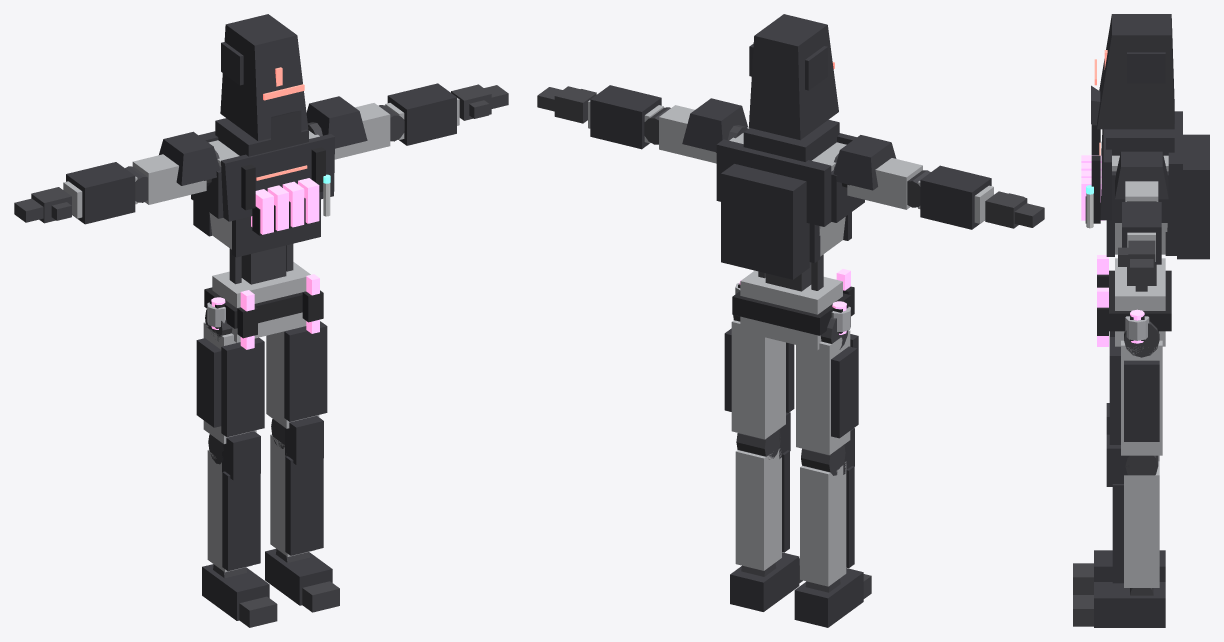
Rendered from char_F2_drop_trooper.glb.
3 renders of one model, left to right at view 1: azimuth 30°, elevation 25°; view 2: azimuth 150°, elevation 25°; view 3: azimuth 270°, elevation 25°, orthographic. The views are drawn at different scales.
Visible parts, largest first — view 1: Head_mesh, UpperChest_mesh, LeftLowerLeg_mesh, RightLowerLeg_mesh, RightUpperLeg_mesh, LeftUpperLeg_mesh, Hips_mesh, RightUpperArm_mesh, RightLowerArm_mesh, LeftLowerArm_mesh, LeftUpperArm_mesh, Chest_mesh (+10 smaller); view 2: UpperChest_mesh, Head_mesh, LeftLowerLeg_mesh, RightLowerLeg_mesh, RightUpperLeg_mesh, LeftUpperLeg_mesh, Hips_mesh, RightUpperArm_mesh, RightLowerArm_mesh, LeftUpperArm_mesh, LeftLowerArm_mesh, RightFoot_mesh (+5 smaller); view 3: UpperChest_mesh, Head_mesh, LeftLowerLeg_mesh, LeftUpperLeg_mesh, Hips_mesh, LeftFoot_mesh, LeftUpperArm_mesh, LeftLowerArm_mesh, LeftHand_mesh, Chest_mesh, RightFoot_mesh, LeftToes_mesh (+7 smaller).
Part boxes in pixels (bbox=[...]): Head_mesh: bbox=[220, 14, 308, 141]; UpperChest_mesh: bbox=[191, 118, 334, 236]; LeftLowerLeg_mesh: bbox=[270, 416, 323, 556]; RightLowerLeg_mesh: bbox=[207, 431, 260, 572]; RightUpperLeg_mesh: bbox=[196, 309, 264, 443]; LeftUpperLeg_mesh: bbox=[266, 321, 327, 428]; Hips_mesh: bbox=[204, 262, 323, 342]; RightUpperArm_mesh: bbox=[132, 131, 219, 204]; RightLowerArm_mesh: bbox=[63, 162, 147, 224]; LeftLowerArm_mesh: bbox=[378, 83, 459, 145]; LeftUpperArm_mesh: bbox=[306, 96, 390, 159]; Chest_mesh: bbox=[204, 199, 320, 257]; UpperChest_mesh: bbox=[716, 115, 864, 279]; Head_mesh: bbox=[749, 14, 838, 140]; LeftLowerLeg_mesh: bbox=[735, 412, 790, 570]; RightLowerLeg_mesh: bbox=[800, 428, 854, 586]; RightUpperLeg_mesh: bbox=[796, 317, 858, 454]; LeftUpperLeg_mesh: bbox=[724, 315, 794, 439]; Hips_mesh: bbox=[732, 270, 854, 350]; RightUpperArm_mesh: bbox=[833, 135, 922, 209]; RightLowerArm_mesh: bbox=[907, 165, 993, 229]; LeftUpperArm_mesh: bbox=[659, 98, 747, 163]; LeftLowerArm_mesh: bbox=[588, 85, 670, 149]; RightFoot_mesh: bbox=[794, 568, 863, 627]; UpperChest_mesh: bbox=[1085, 111, 1209, 259]; Head_mesh: bbox=[1091, 14, 1174, 129]; LeftLowerLeg_mesh: bbox=[1106, 434, 1159, 587]; LeftUpperLeg_mesh: bbox=[1109, 321, 1162, 455]; Hips_mesh: bbox=[1097, 258, 1171, 346]; LeftFoot_mesh: bbox=[1094, 582, 1165, 627]; LeftUpperArm_mesh: bbox=[1115, 151, 1168, 201]; LeftLowerArm_mesh: bbox=[1122, 201, 1161, 264]; LeftHand_mesh: bbox=[1118, 240, 1155, 279]; Chest_mesh: bbox=[1106, 220, 1176, 256]; RightFoot_mesh: bbox=[1094, 550, 1165, 581]; LeftToes_mesh: bbox=[1073, 595, 1093, 626].
Bounding box in the file's own units: 1.69 × 1.88 × 0.403.
